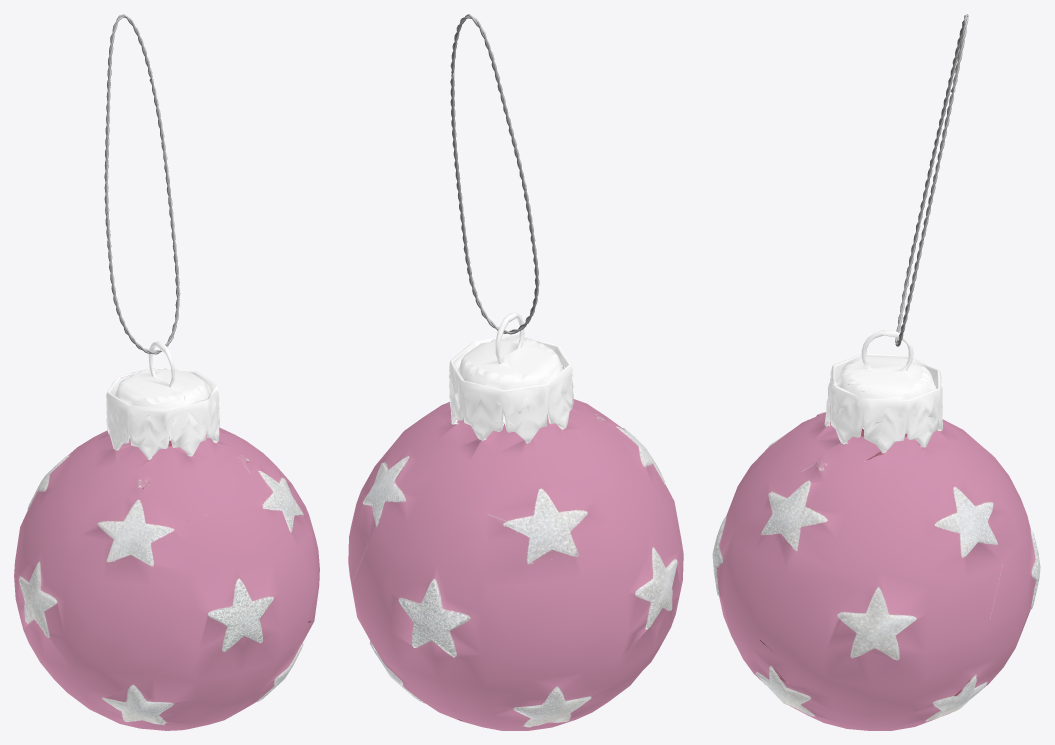
File: Pink_starry_orb.glb
3 renders of one model, left to right at view 1: azimuth 30°, elevation 25°; view 2: azimuth 150°, elevation 25°; view 3: azimuth 270°, elevation 25°, orthographic. The views are drawn at different scales.
Parts seen in each view (by area): view 1: Mesh1.0, GN Instance; view 2: Mesh1.0, GN Instance; view 3: Mesh1.0, GN Instance.
Boxes of the visible parts, x1,y1,x2,y2 form: Mesh1.0: [14, 341, 319, 730]; GN Instance: [104, 14, 180, 354]; Mesh1.0: [348, 312, 683, 730]; GN Instance: [450, 14, 539, 334]; Mesh1.0: [712, 330, 1040, 730]; GN Instance: [895, 14, 968, 346].
Size of the model in its own units: 0.04 by 0.0944 by 0.0399.
2 materials, 1 textured.
